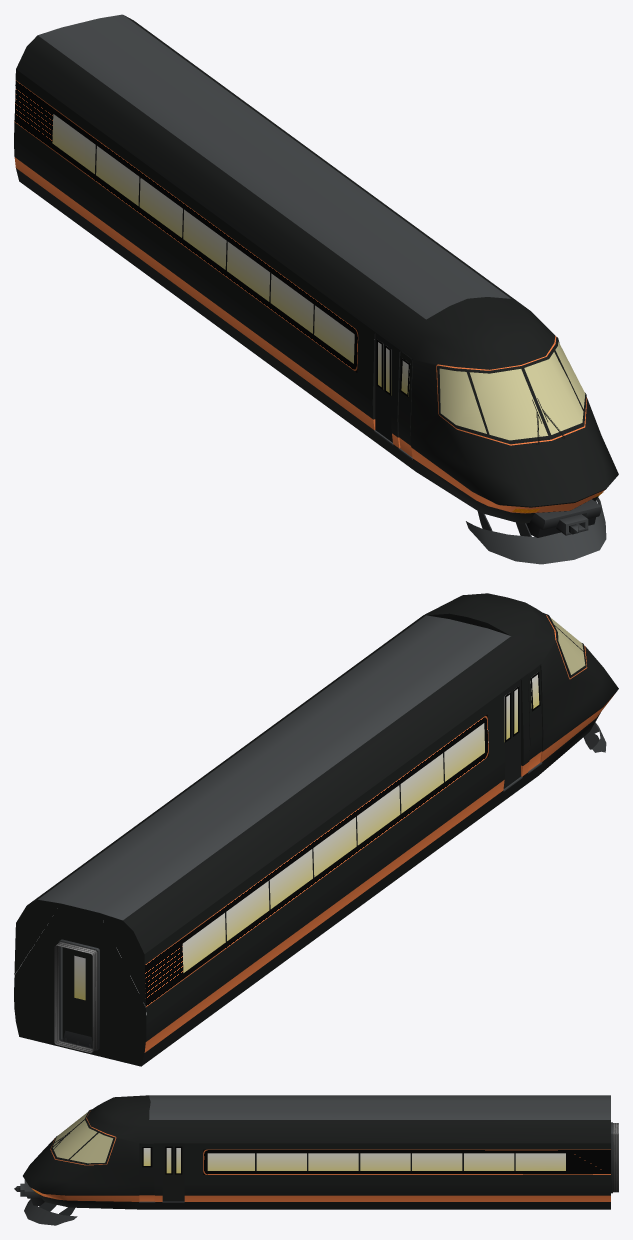
The picture shows the model from 3 angles, top to bottom: view 1: azimuth 30°, elevation 25°; view 2: azimuth 150°, elevation 25°; view 3: azimuth 270°, elevation 25°; orthographic projection. The views are drawn at different scales.
Parts seen in each view (by area): view 1: obj2; view 2: obj2; view 3: obj2.
Part boxes in pixels (x1=…): obj2: x1=14, y1=14, x2=618, y2=564; obj2: x1=14, y1=593, x2=618, y2=1066; obj2: x1=14, y1=1095, x2=618, y2=1225.
Bounding box in the file's own units: 6.49 × 8.57 × 43.18.
Materials: 19 (18 with a texture image).
